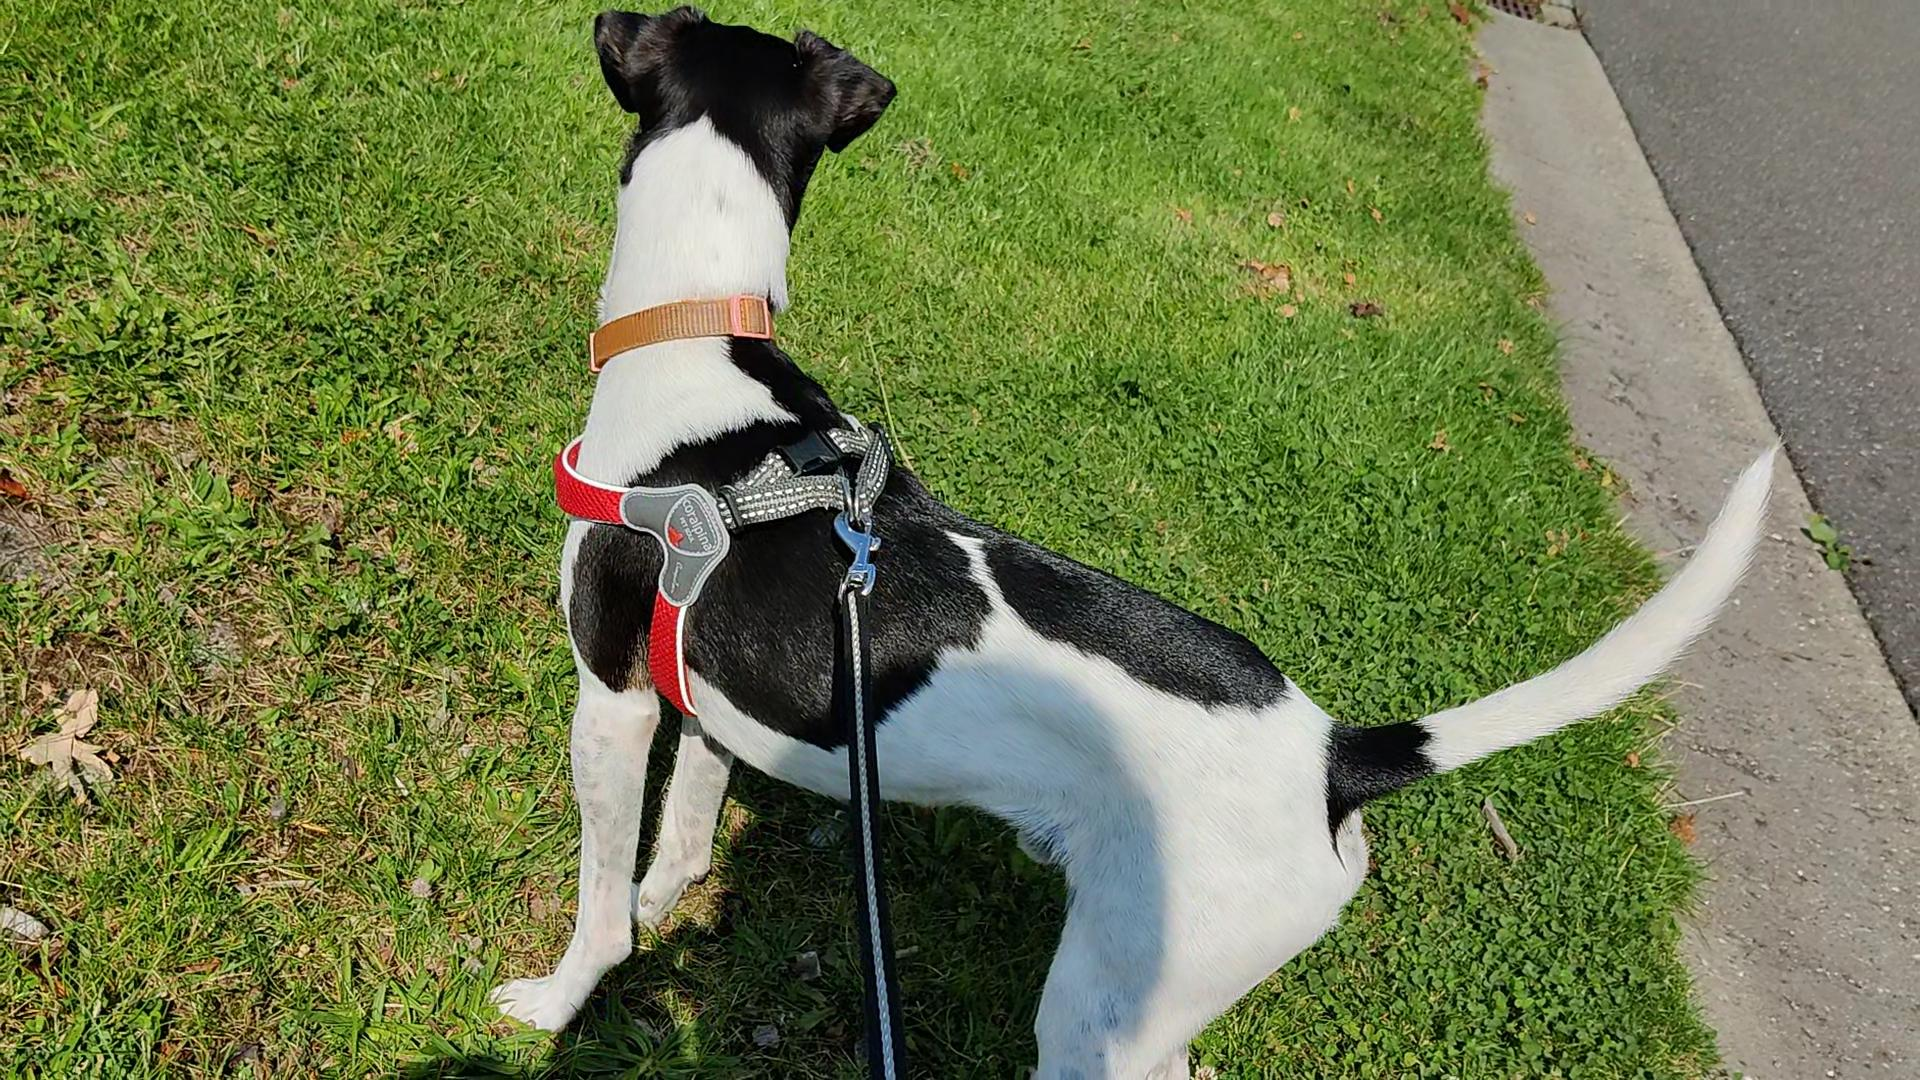Dog: (489, 4, 1791, 1079)
